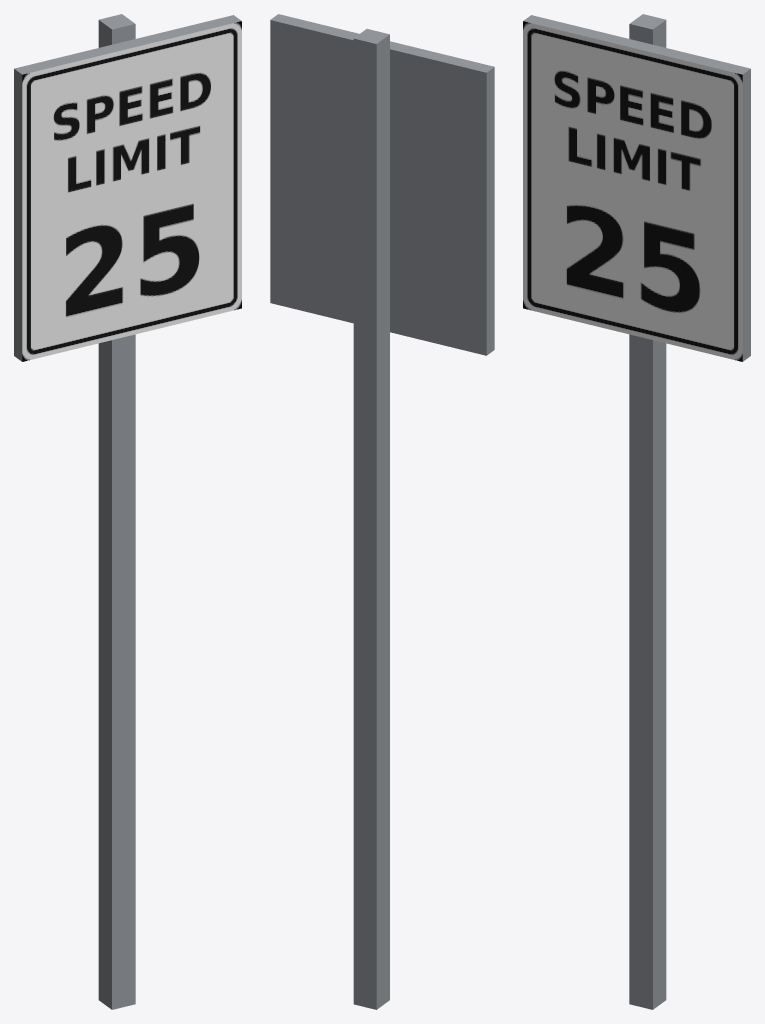
Rendered from us_speed25.dae.
The picture shows the model from 3 angles, left to right: view 1: azimuth 30°, elevation 25°; view 2: azimuth 150°, elevation 25°; view 3: azimuth 330°, elevation 25°; orthographic projection.
Parts seen in each view (by area): view 1: sign4, Colmesh-1; view 2: Colmesh-1, sign4; view 3: sign4, Colmesh-1.
Boxes of the visible parts, <box> form: sign4: <box>22,14,241,1009</box>; Colmesh-1: <box>14,15,241,361</box>; Colmesh-1: <box>270,14,494,355</box>; sign4: <box>353,29,389,1009</box>; sign4: <box>523,14,742,1009</box>; Colmesh-1: <box>523,15,750,361</box>.
Size of the model in its own units: 0.6096 by 0.105 by 2.6.
Materials: 2 (1 with a texture image).
